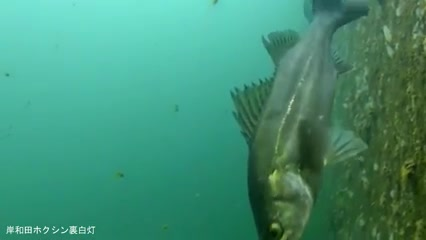suzuki: (226, 2, 375, 239)
